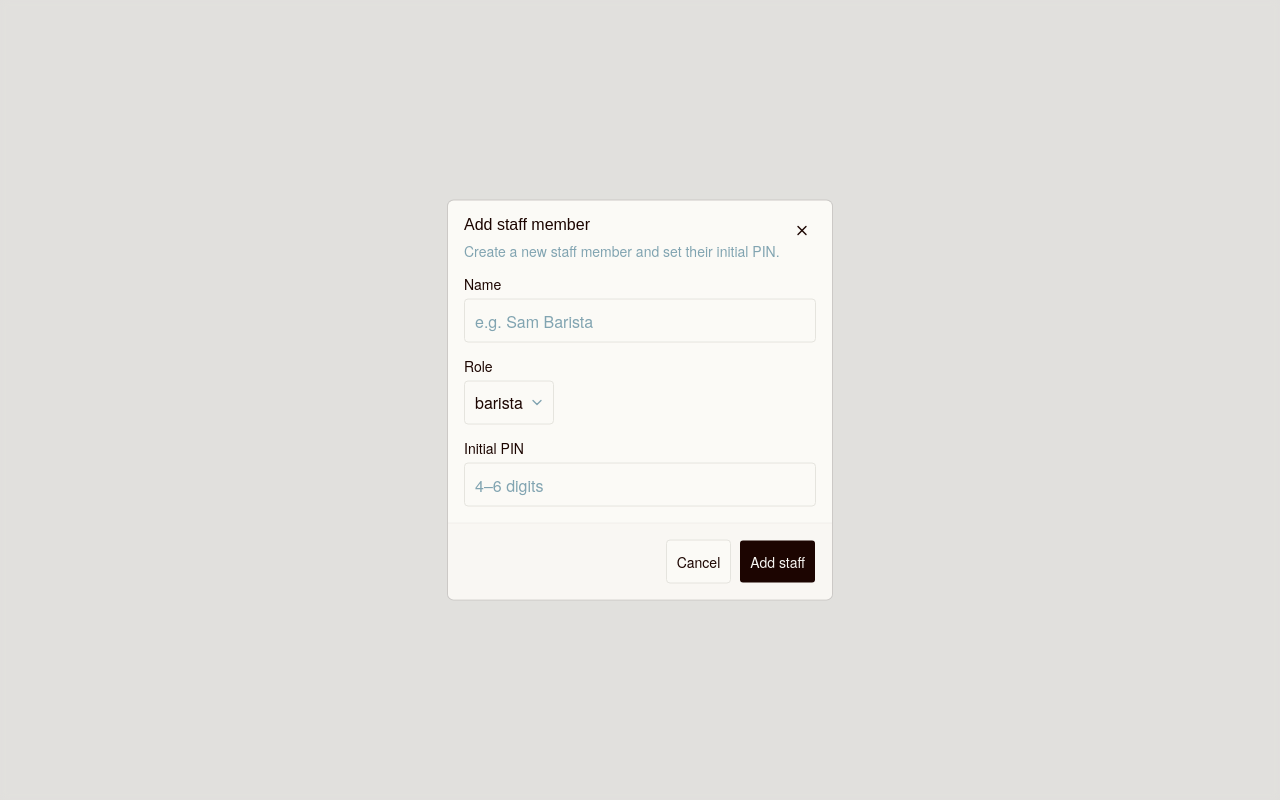
Scenario: StaffForm — add › shows a message for an empty name
Click the button "Add staff". click: (778, 562)
box: [739,540,816,584]
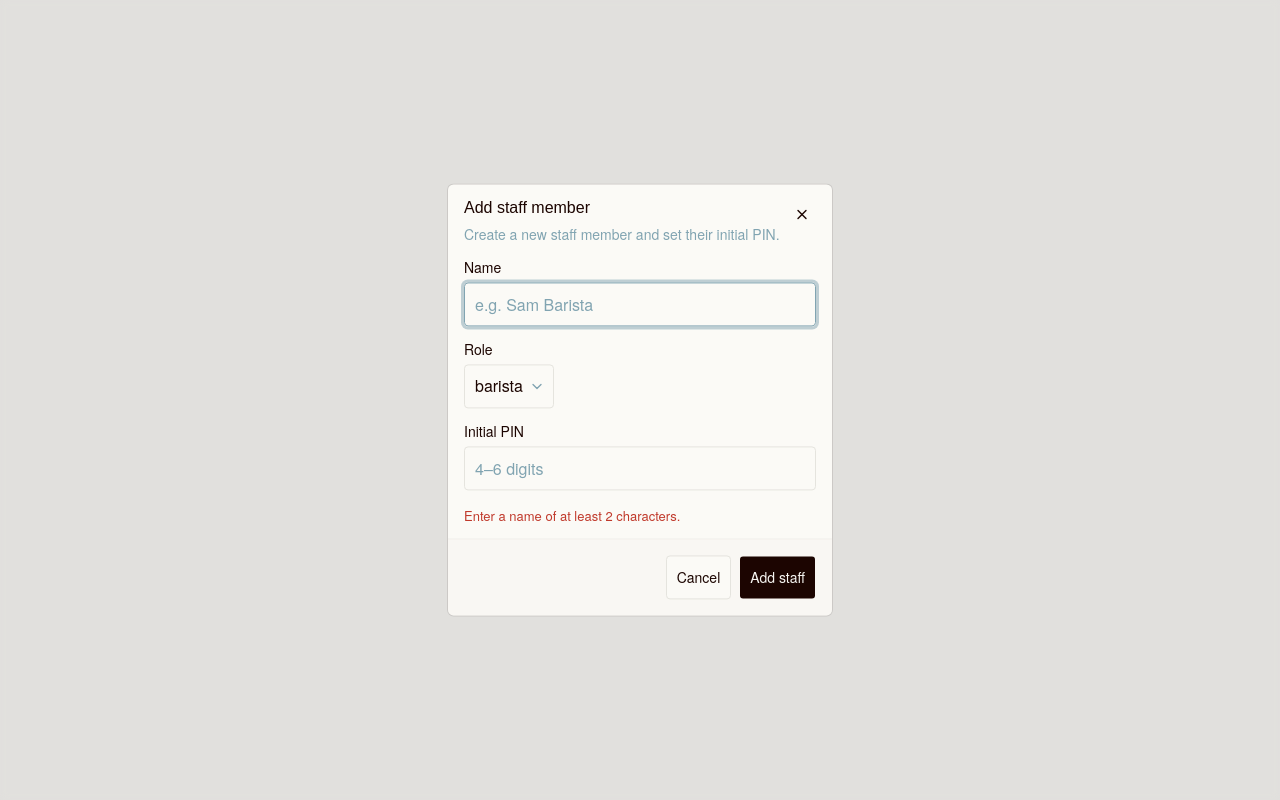
Result: the message reads "Enter a name of at least 2 characters." at [464,506,680,525]
